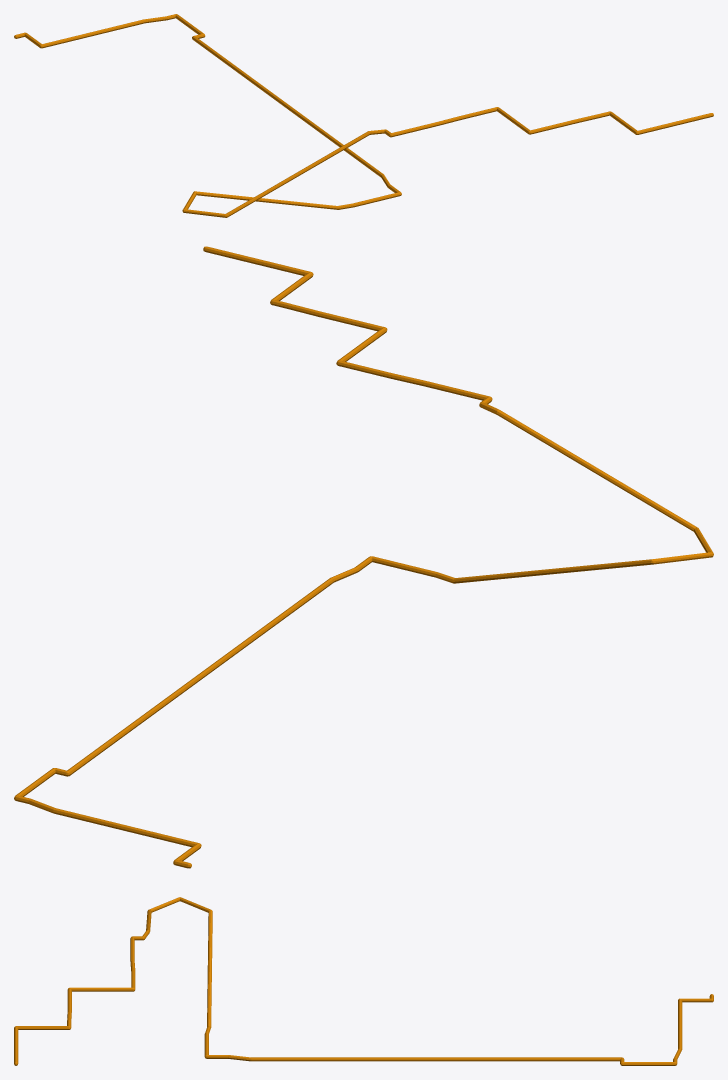
The picture shows the model from 3 angles, top to bottom: view 1: azimuth 30°, elevation 25°; view 2: azimuth 150°, elevation 25°; view 3: azimuth 270°, elevation 25°; orthographic projection. The views are drawn at different scales.
Size of the model in its own units: 2398 by 520 by 3303.
